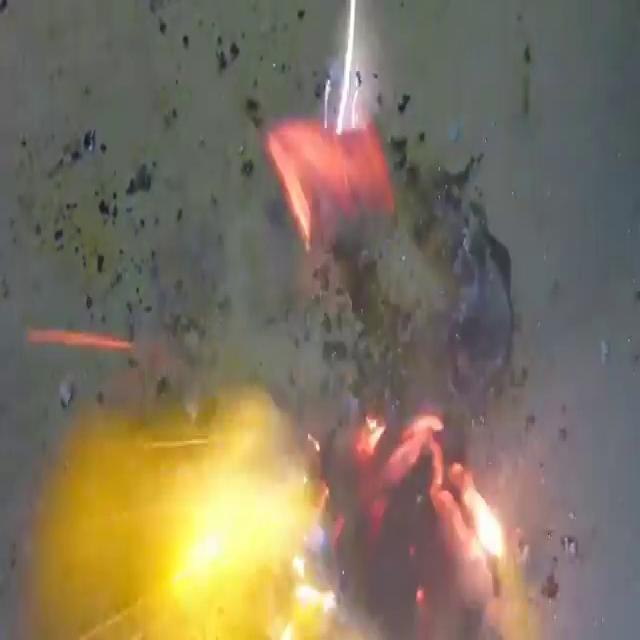Fire: (26, 46, 551, 640)
